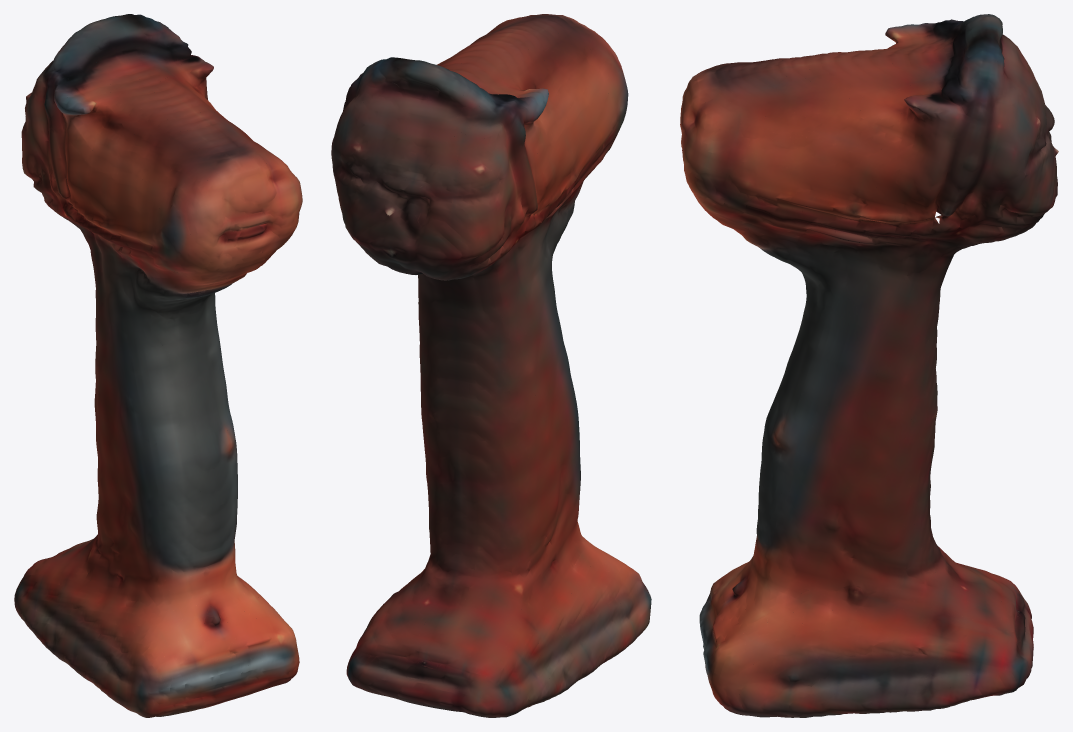
Rendered from triposr_recon.glb.
3 renders of one model, left to right at view 1: azimuth 30°, elevation 25°; view 2: azimuth 150°, elevation 25°; view 3: azimuth 270°, elevation 25°, orthographic. The views are drawn at different scales.
Visible parts, largest first — view 1: world; view 2: world; view 3: world.
Boxes of the visible parts, box(x1,y1,x2,y2) form: world: box(14, 14, 302, 717); world: box(331, 14, 651, 717); world: box(680, 14, 1058, 717).
Bounding box in the file's own units: 0.0672 × 0.2162 × 0.1118.
1 material, 1 textured.
